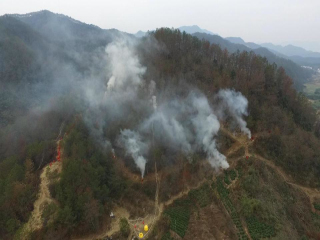smoke: (83, 36, 256, 176)
